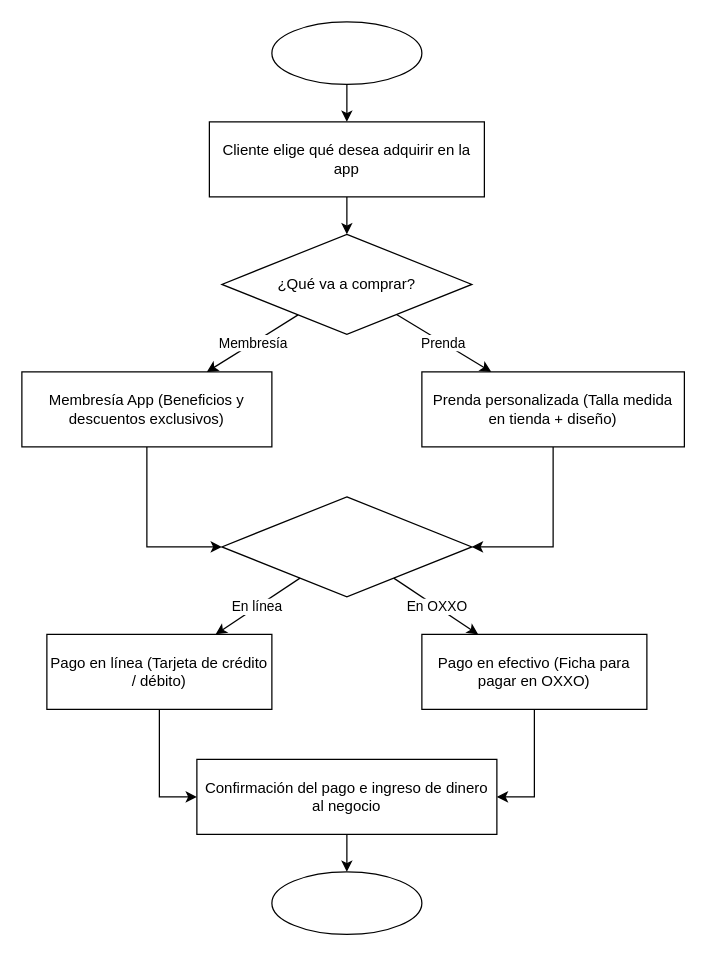
Image size: 706x956. Some labels were removed from this diagram. Here are the shapes that lost their labels. From the top down, the centre of each, then its label:
point 346,52: Inicio
point 346,546: ¿Cómo realiza el pago?
point 346,902: Fin
